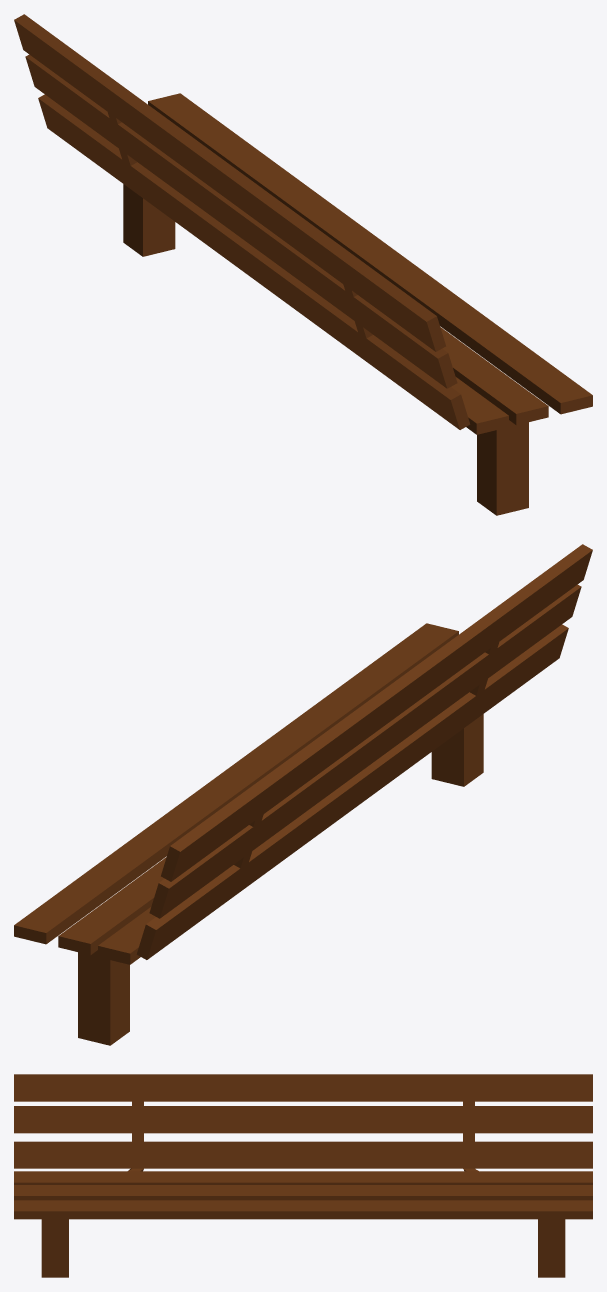
File: Bench.fbx
3 views of the same model, one above another, from view 1: azimuth 30°, elevation 25°; view 2: azimuth 150°, elevation 25°; view 3: azimuth 270°, elevation 25° (orthographic). The views are drawn at different scales.
Parts seen in each view (by area): view 1: Bench 2; view 2: Bench 2; view 3: Bench 2.
Boxes of the visible parts, x1,y1,x2,y2 form: Bench 2: (14,14,592,515); Bench 2: (14,544,592,1045); Bench 2: (14,1074,592,1277).
Bounding box in the file's own units: 0.9091 × 1.22 × 3.91.
